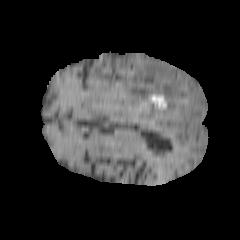glioma: (96, 57, 187, 127)
